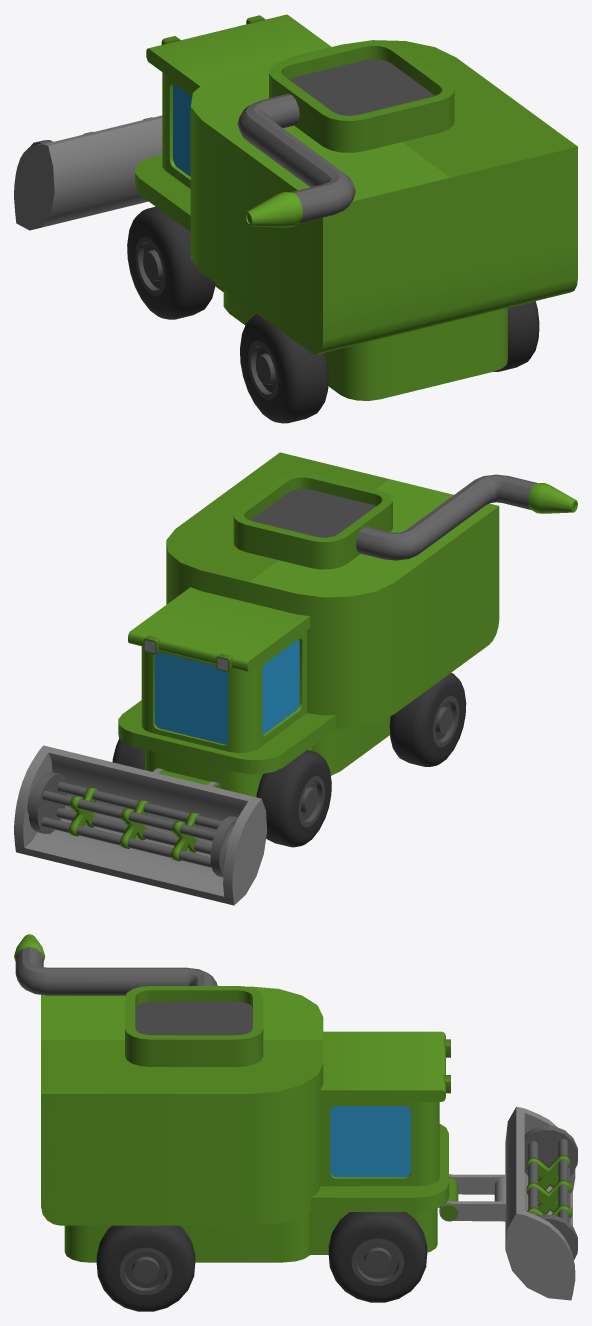
The model's file is Vehicle4.fbx.
The picture shows the model from 3 angles, top to bottom: view 1: azimuth 30°, elevation 25°; view 2: azimuth 150°, elevation 25°; view 3: azimuth 270°, elevation 25°; orthographic projection. The views are drawn at different scales.
Parts seen in each view (by area): view 1: Cube.042, Cylinder.047, Cylinder.045, Cylinder.046; view 2: Cube.042, Cylinder.047, Cylinder.046, Cylinder.045; view 3: Cube.042, Cylinder.047, Cylinder.046, Cylinder.045.
Part boxes in pixels (x1,y1,x2,y2): Cube.042: (135, 14, 577, 400); Cylinder.047: (14, 115, 162, 230); Cylinder.045: (240, 301, 539, 423); Cylinder.046: (127, 206, 215, 319); Cube.042: (118, 452, 577, 796); Cylinder.047: (14, 745, 267, 905); Cylinder.046: (112, 739, 331, 847); Cylinder.045: (389, 672, 466, 766); Cube.042: (14, 934, 450, 1262); Cylinder.047: (439, 1106, 577, 1300); Cylinder.046: (328, 1212, 427, 1302); Cylinder.045: (96, 1225, 195, 1311).
Bounding box in the file's own units: 10.42 × 17.56 × 8.58.
